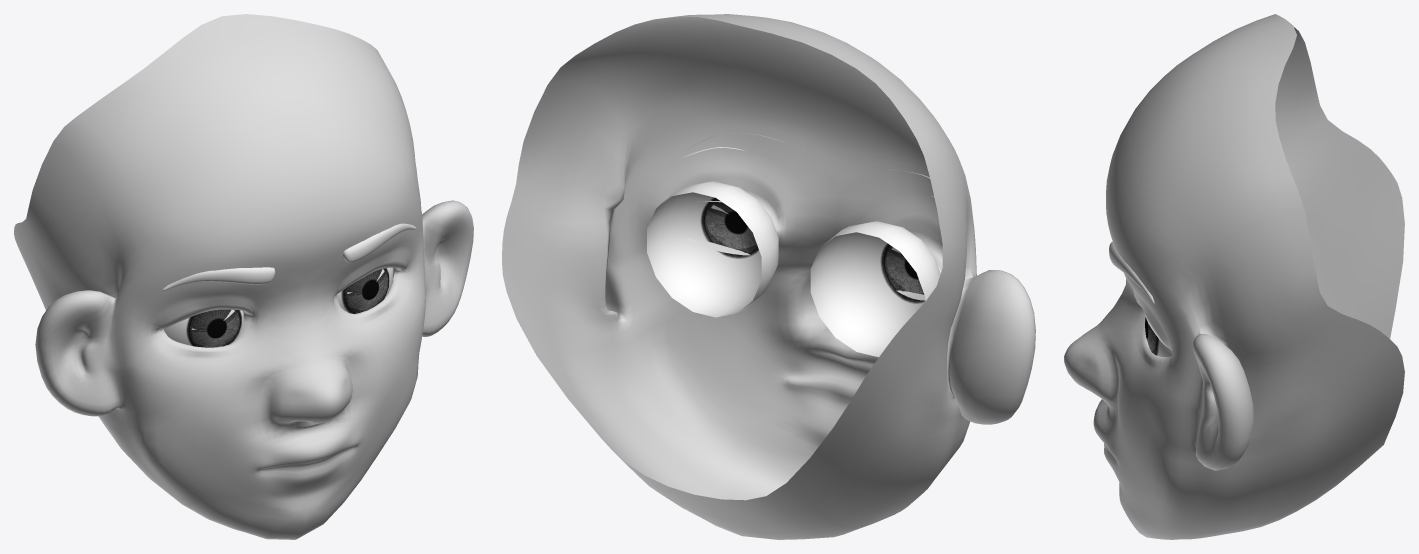
The model's file is head_blink.fbx.
3 views of the same model, side by side, from view 1: azimuth 30°, elevation 25°; view 2: azimuth 150°, elevation 25°; view 3: azimuth 270°, elevation 25° (orthographic). The views are drawn at different scales.
Visible parts, largest first — view 1: face_ur, eyeball_right_ur, eyeball_left_ur; view 2: face_ur, eyeball_left_ur, eyeball_right_ur; view 3: face_ur, eyeball_left_ur.
Part boxes in pixels (bbox=[...]): face_ur: bbox=[14, 14, 473, 539]; eyeball_right_ur: bbox=[163, 309, 243, 347]; eyeball_left_ur: bbox=[337, 267, 393, 313]; face_ur: bbox=[502, 14, 1035, 539]; eyeball_left_ur: bbox=[647, 181, 778, 317]; eyeball_right_ur: bbox=[810, 221, 940, 357]; face_ur: bbox=[1064, 14, 1404, 539]; eyeball_left_ur: bbox=[1145, 317, 1172, 357].
Bounding box in the file's own units: 78.91 × 81.79 × 50.98.
